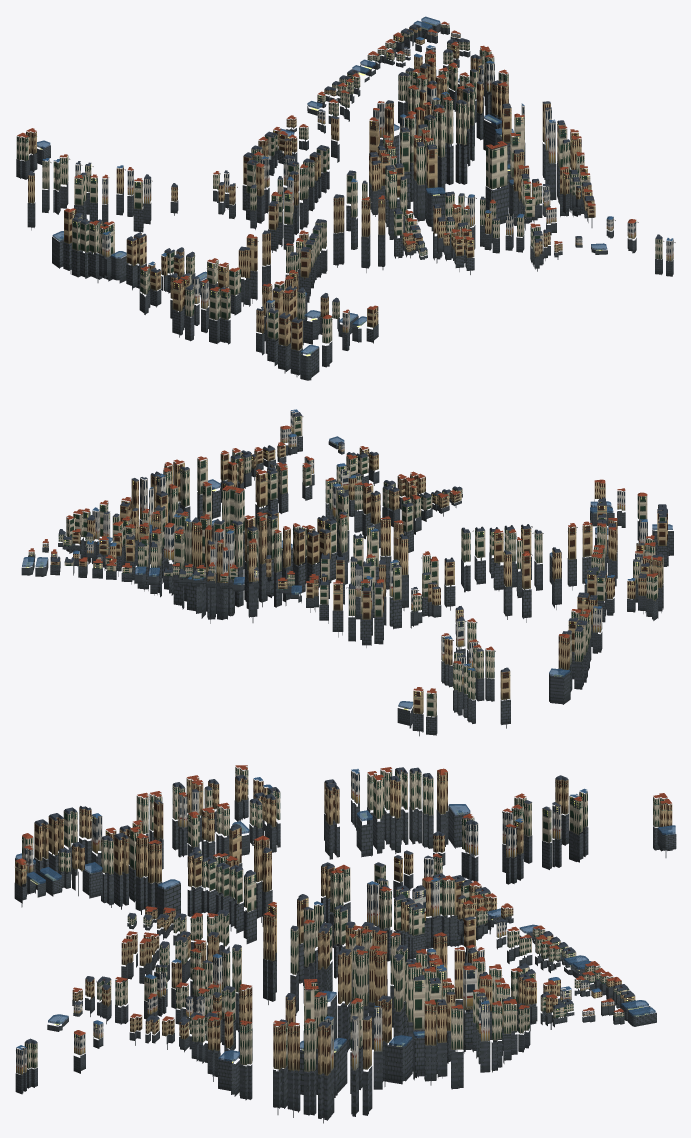
The model's file is osm_buildings_T_W01_S01_Q1.glb.
3 views of the same model, one above another, from view 1: azimuth 30°, elevation 25°; view 2: azimuth 150°, elevation 25°; view 3: azimuth 270°, elevation 25° (orthographic). The views are drawn at different scales.
Visible parts, largest first — view 1: OSM_PBR_T_W01_S01_Q1_foundation, OSM_PBR_T_W01_S01_Q1_wall_cream_stucco, OSM_PBR_T_W01_S01_Q1_wall_french_ochre, OSM_PBR_T_W01_S01_Q1_roof_terracotta, OSM_PBR_T_W01_S01_Q1_roof_mansard_slate, OSM_PBR_T_W01_S01_Q1_wall_pastel_sand, OSM_PBR_T_W01_S01_Q1_wall_warm_white, OSM_PBR_T_W01_S01_Q1_greenhouse_blend, OSM_PBR_T_W01_S01_Q1_roof_mansard_deck, OSM_PBR_T_W01_S01_Q1_roof_mint_metal, OSM_PBR_T_W01_S01_Q1_trim_cornice, OSM_PBR_T_W01_S01_Q1_balcony_railing; view 2: OSM_PBR_T_W01_S01_Q1_foundation, OSM_PBR_T_W01_S01_Q1_wall_cream_stucco, OSM_PBR_T_W01_S01_Q1_wall_french_ochre, OSM_PBR_T_W01_S01_Q1_roof_terracotta, OSM_PBR_T_W01_S01_Q1_roof_mansard_slate, OSM_PBR_T_W01_S01_Q1_wall_pastel_sand, OSM_PBR_T_W01_S01_Q1_wall_warm_white, OSM_PBR_T_W01_S01_Q1_roof_mansard_deck, OSM_PBR_T_W01_S01_Q1_greenhouse_blend, OSM_PBR_T_W01_S01_Q1_roof_mint_metal, OSM_PBR_T_W01_S01_Q1_trim_cornice, OSM_PBR_T_W01_S01_Q1_balcony_railing (+1 smaller); view 3: OSM_PBR_T_W01_S01_Q1_foundation, OSM_PBR_T_W01_S01_Q1_wall_cream_stucco, OSM_PBR_T_W01_S01_Q1_wall_french_ochre, OSM_PBR_T_W01_S01_Q1_roof_terracotta, OSM_PBR_T_W01_S01_Q1_roof_mansard_slate, OSM_PBR_T_W01_S01_Q1_wall_pastel_sand, OSM_PBR_T_W01_S01_Q1_wall_warm_white, OSM_PBR_T_W01_S01_Q1_greenhouse_blend, OSM_PBR_T_W01_S01_Q1_roof_mansard_deck, OSM_PBR_T_W01_S01_Q1_roof_mint_metal, OSM_PBR_T_W01_S01_Q1_trim_cornice, OSM_PBR_T_W01_S01_Q1_roof_alpine_blue.
Part boxes in pixels (x1,y1,x2,y2): OSM_PBR_T_W01_S01_Q1_foundation: (16,23,673,380); OSM_PBR_T_W01_S01_Q1_wall_cream_stucco: (16,24,662,343); OSM_PBR_T_W01_S01_Q1_wall_french_ochre: (26,27,595,350); OSM_PBR_T_W01_S01_Q1_roof_terracotta: (17,21,635,318); OSM_PBR_T_W01_S01_Q1_roof_mansard_slate: (28,25,662,322); OSM_PBR_T_W01_S01_Q1_wall_pastel_sand: (102,63,636,333); OSM_PBR_T_W01_S01_Q1_wall_warm_white: (75,30,673,330); OSM_PBR_T_W01_S01_Q1_greenhouse_blend: (37,16,607,354); OSM_PBR_T_W01_S01_Q1_roof_mansard_deck: (29,24,661,353); OSM_PBR_T_W01_S01_Q1_roof_mint_metal: (17,28,662,326); OSM_PBR_T_W01_S01_Q1_trim_cornice: (26,25,671,323); OSM_PBR_T_W01_S01_Q1_balcony_railing: (19,33,636,318); OSM_PBR_T_W01_S01_Q1_foundation: (21,432,673,736); OSM_PBR_T_W01_S01_Q1_wall_cream_stucco: (28,416,666,716); OSM_PBR_T_W01_S01_Q1_wall_french_ochre: (50,444,667,713); OSM_PBR_T_W01_S01_Q1_roof_terracotta: (28,425,662,693); OSM_PBR_T_W01_S01_Q1_roof_mansard_slate: (51,412,667,672); OSM_PBR_T_W01_S01_Q1_wall_pastel_sand: (92,427,643,667); OSM_PBR_T_W01_S01_Q1_wall_warm_white: (42,411,647,685); OSM_PBR_T_W01_S01_Q1_roof_mansard_deck: (24,412,666,708); OSM_PBR_T_W01_S01_Q1_greenhouse_blend: (22,436,672,709); OSM_PBR_T_W01_S01_Q1_roof_mint_metal: (53,421,667,699); OSM_PBR_T_W01_S01_Q1_trim_cornice: (32,411,667,694); OSM_PBR_T_W01_S01_Q1_balcony_railing: (29,418,662,697); OSM_PBR_T_W01_S01_Q1_foundation: (14,796,676,1123); OSM_PBR_T_W01_S01_Q1_wall_cream_stucco: (22,767,667,1072); OSM_PBR_T_W01_S01_Q1_wall_french_ochre: (15,771,672,1075); OSM_PBR_T_W01_S01_Q1_roof_terracotta: (15,765,671,1035); OSM_PBR_T_W01_S01_Q1_roof_mansard_slate: (25,768,634,1043); OSM_PBR_T_W01_S01_Q1_wall_pastel_sand: (23,791,516,1070); OSM_PBR_T_W01_S01_Q1_wall_warm_white: (16,771,614,1074); OSM_PBR_T_W01_S01_Q1_greenhouse_blend: (15,804,675,1061); OSM_PBR_T_W01_S01_Q1_roof_mansard_deck: (26,767,674,1061); OSM_PBR_T_W01_S01_Q1_roof_mint_metal: (15,772,671,1050); OSM_PBR_T_W01_S01_Q1_trim_cornice: (16,766,671,1048); OSM_PBR_T_W01_S01_Q1_roof_alpine_blue: (16,769,601,1049).
Size of the model in its own units: 1000 by 216 by 1000.
18 materials, 16 textured.
